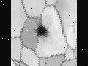good_void: (35, 21, 50, 38), (44, 61, 47, 64)
